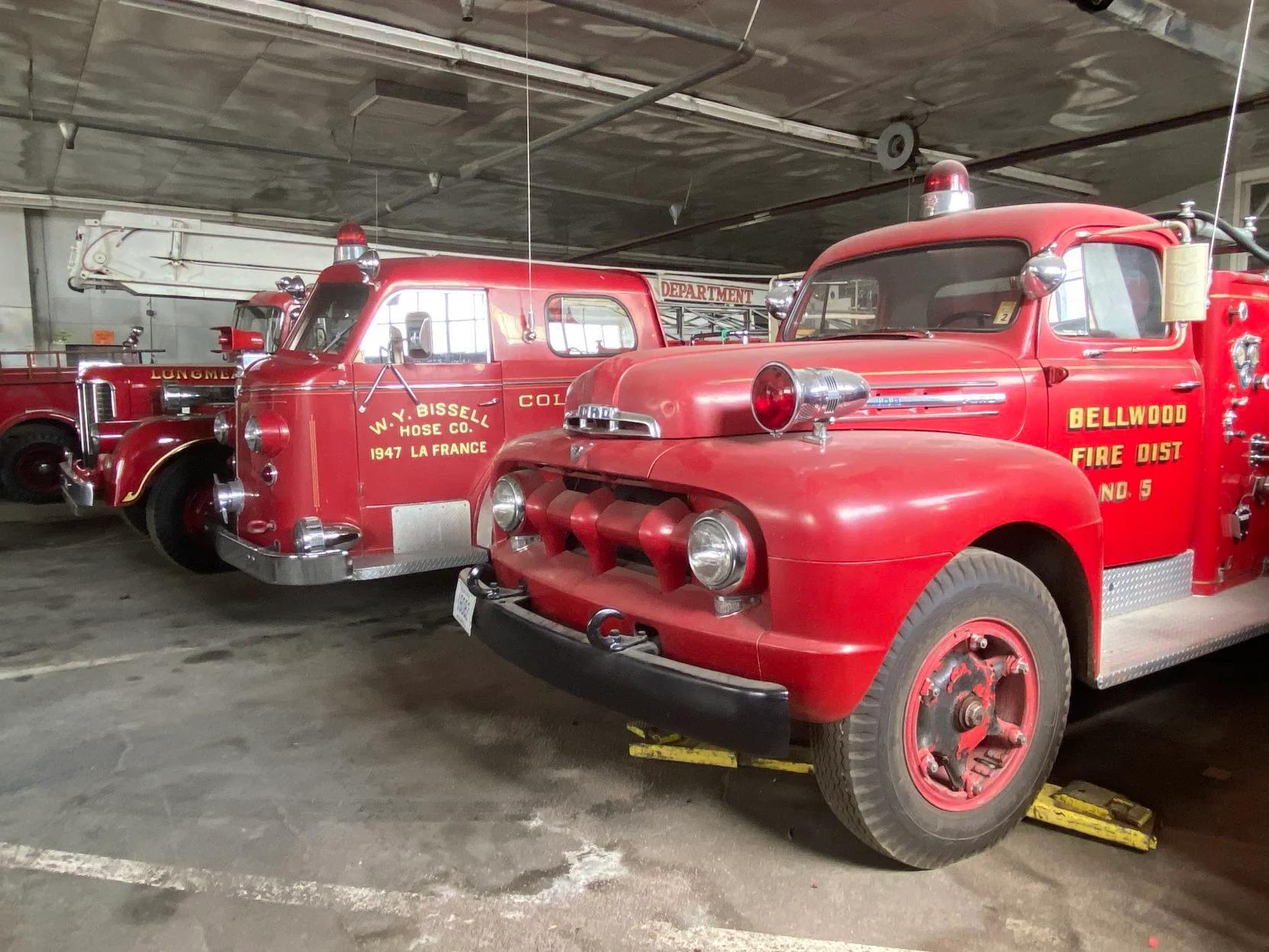Fire-engine: (452, 157, 1267, 870), (222, 245, 711, 662), (54, 204, 447, 595)
